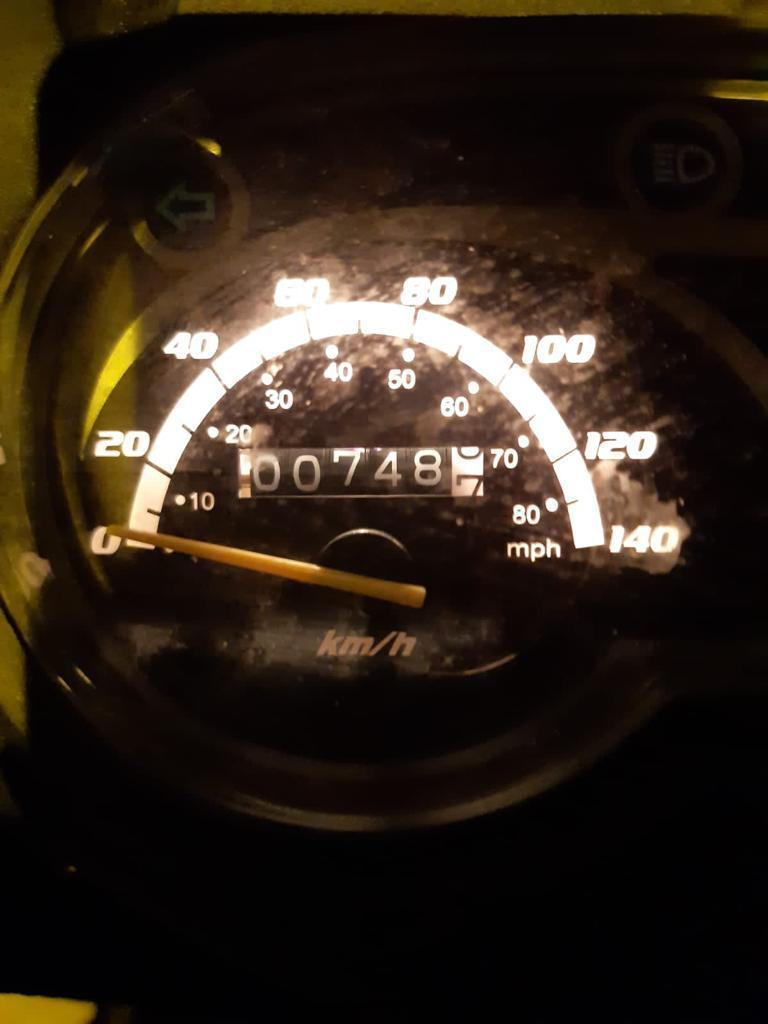0: (290, 453, 323, 493), (252, 451, 282, 493)
4: (370, 448, 405, 489)
7: (328, 448, 362, 487), (449, 471, 484, 498)
8: (411, 449, 444, 488)
odometer: (231, 442, 488, 501)
